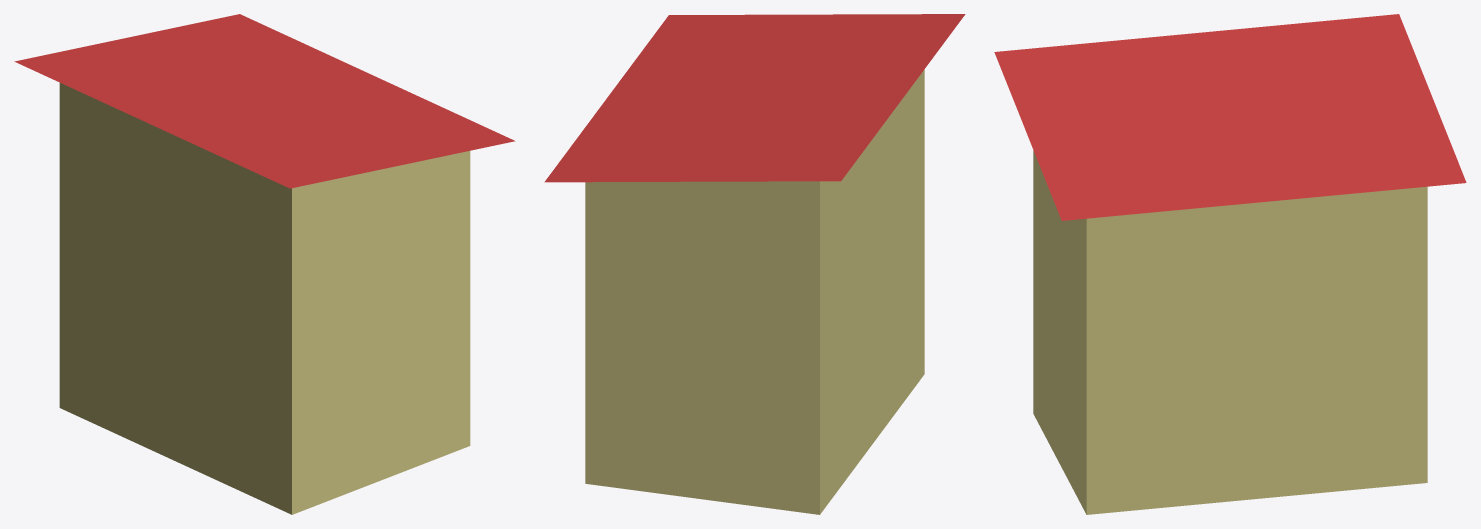
3 views of the same model, side by side, from view 1: azimuth 30°, elevation 25°; view 2: azimuth 150°, elevation 25°; view 3: azimuth 270°, elevation 25° (orthographic).
Size of the model in its own units: 6.03 by 7.23 by 5.93.
